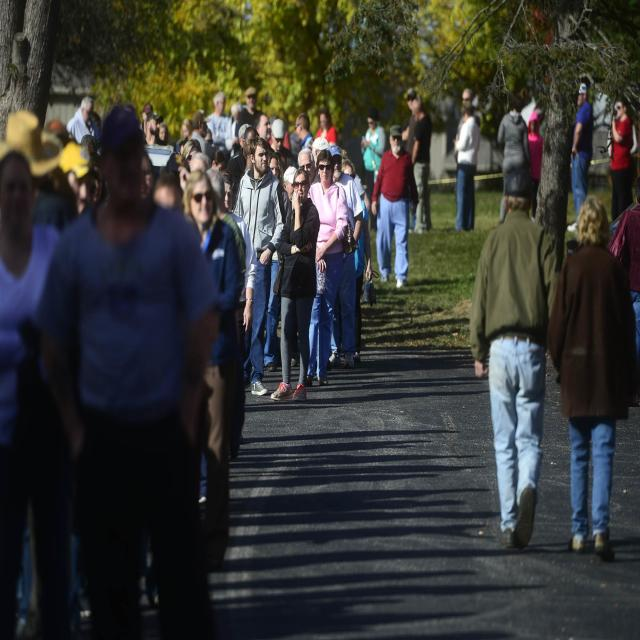body: (24, 94, 224, 639), (0, 60, 432, 236), (0, 142, 82, 640), (467, 165, 564, 557), (544, 190, 639, 566), (182, 169, 244, 536), (229, 134, 288, 400), (267, 164, 322, 403), (601, 80, 640, 354), (219, 172, 258, 443), (305, 148, 349, 387), (326, 144, 365, 369), (297, 147, 337, 365), (369, 122, 420, 290), (340, 158, 374, 366), (262, 151, 292, 372), (496, 94, 532, 229), (565, 80, 595, 236), (453, 99, 482, 234), (359, 107, 387, 233), (409, 97, 434, 236), (399, 86, 421, 235), (609, 96, 635, 222), (454, 87, 478, 219), (66, 94, 102, 156), (225, 125, 260, 187), (526, 109, 544, 224), (268, 118, 298, 176), (278, 166, 302, 234), (190, 108, 217, 162), (206, 91, 230, 151), (238, 86, 264, 129), (313, 106, 338, 148), (250, 111, 274, 152), (295, 112, 315, 150)
